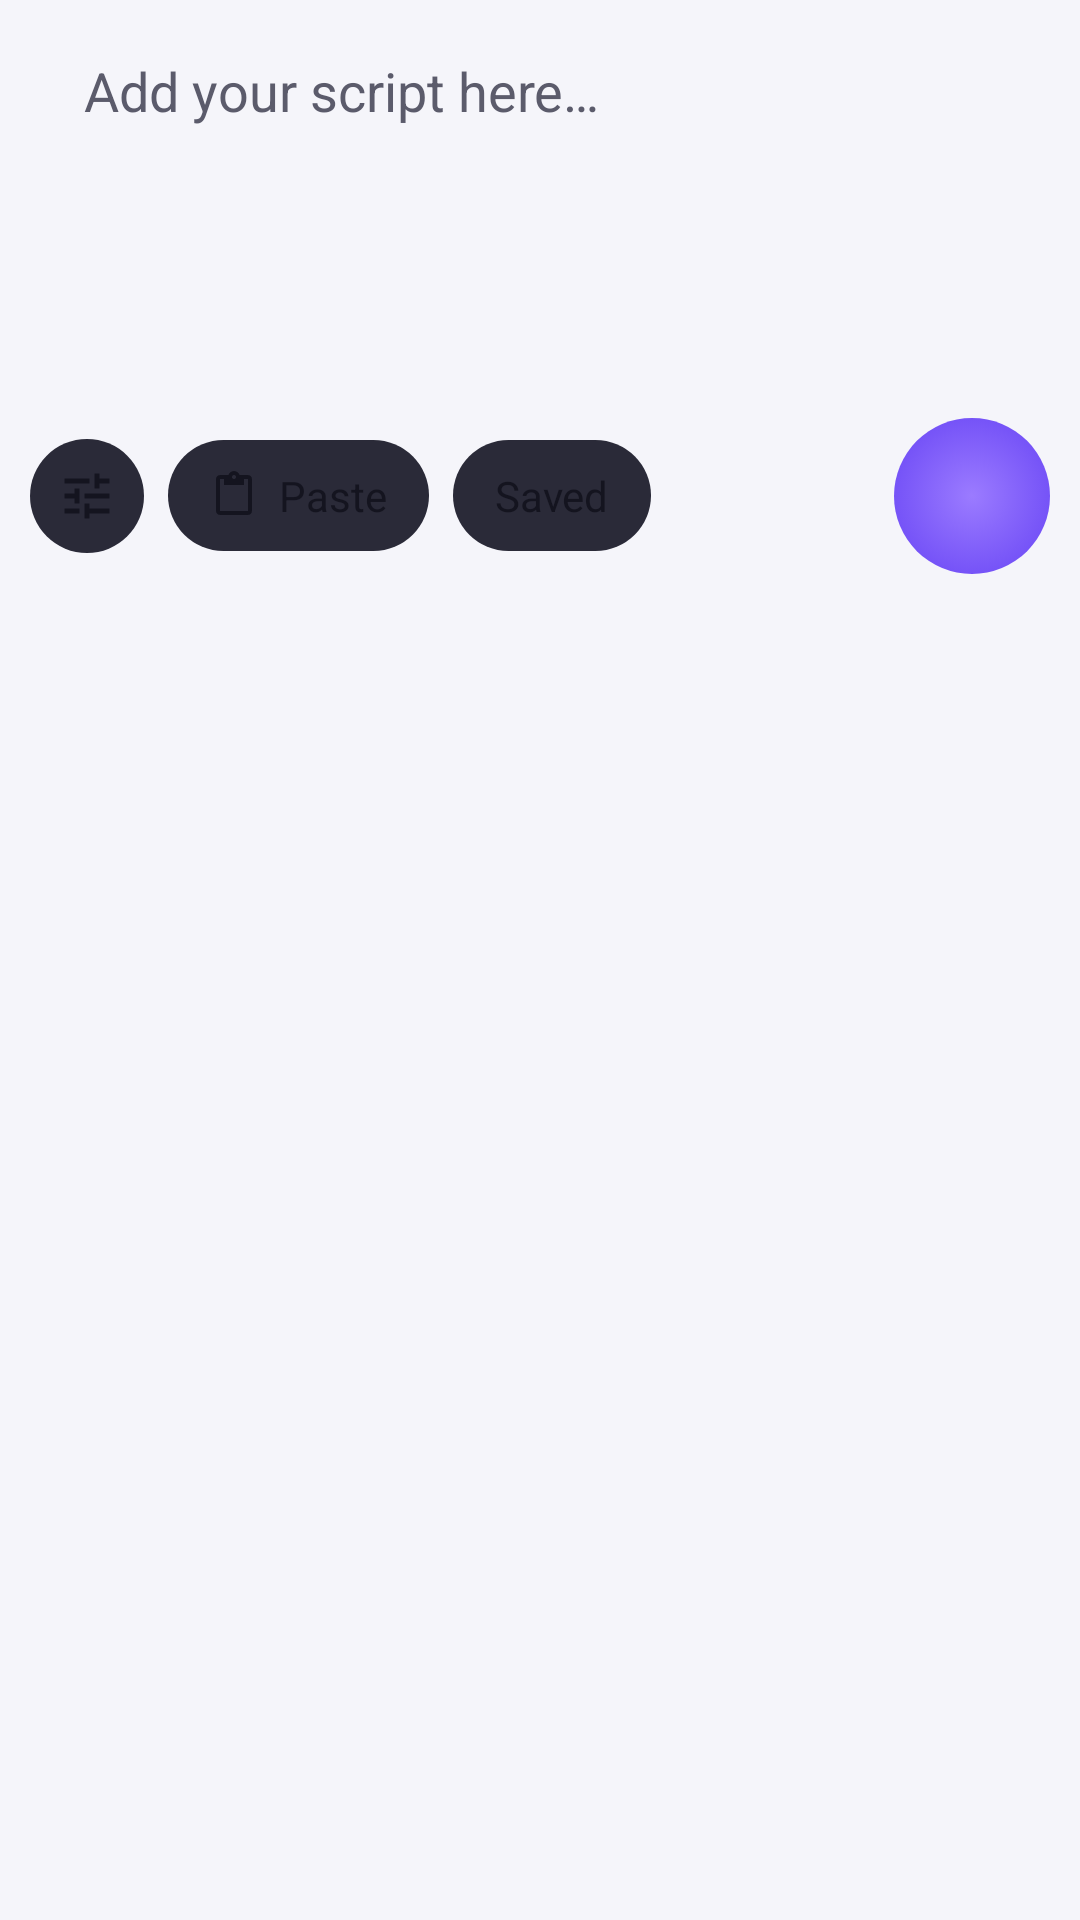

Screen size 1080×1920. Icon name, then its center in pixels as (x,y):
Speed and text size: (87,496)
